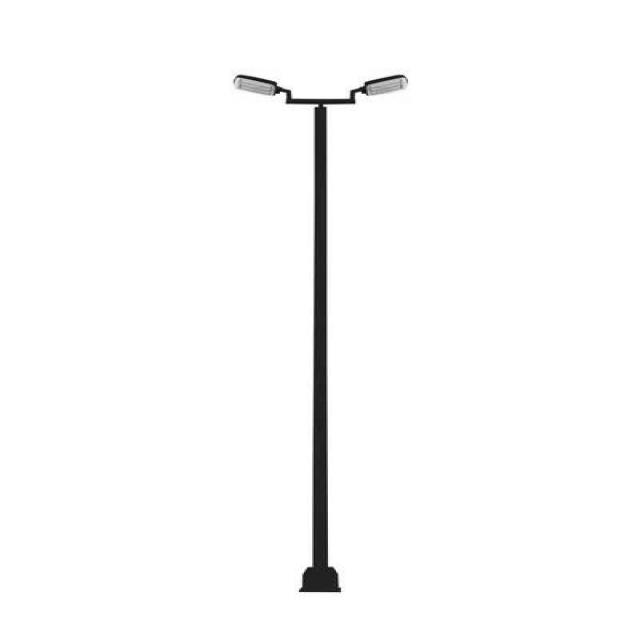Pole: (238, 74, 408, 594)
